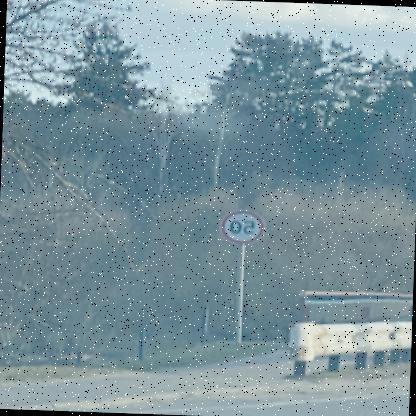speedlimit: (224, 208, 268, 244)
